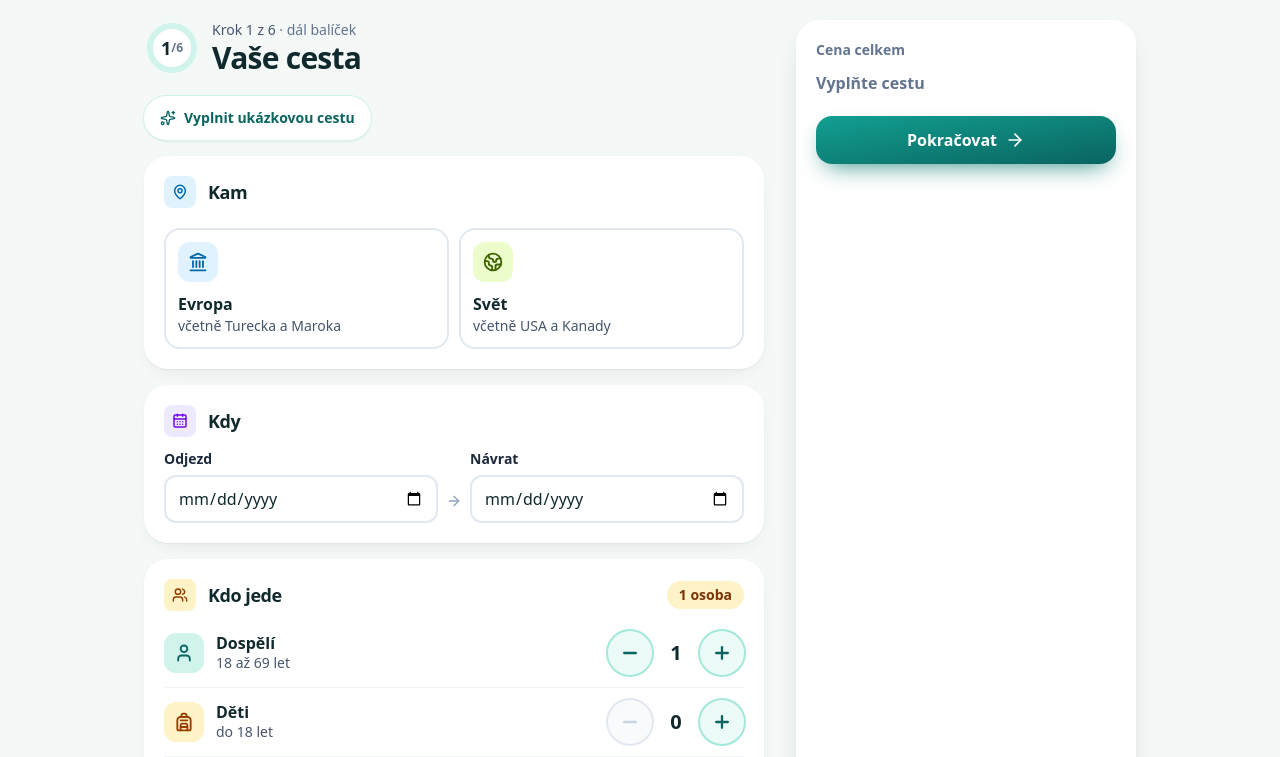
Test case: PurchaseFlow › ve variantě B jsou balíčky vedle sebe a Komfort je předvybraný
The image size is (1280, 757).
Click the button "Vyplnit ukázkovou cestu": (257, 118) left=144, top=96, right=371, bottom=140
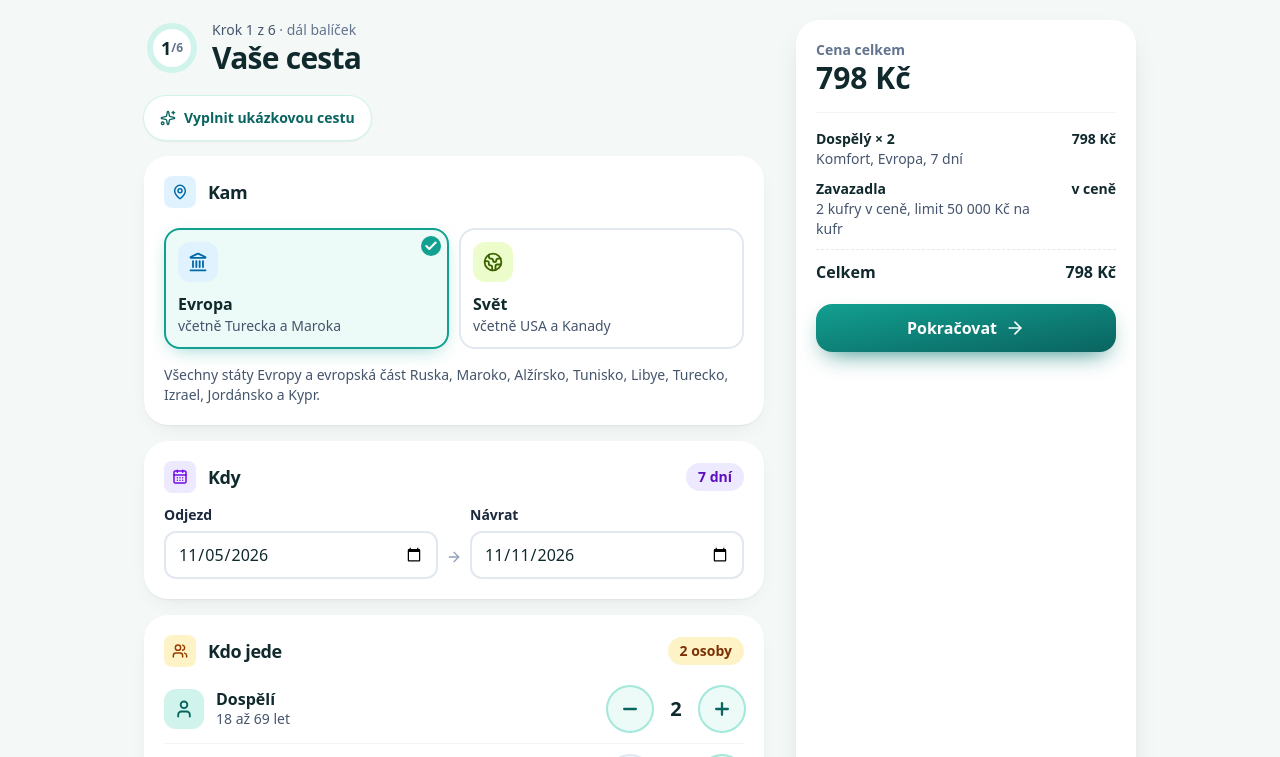
Click the button "Pokračovat": (966, 328) left=816, top=304, right=1116, bottom=352
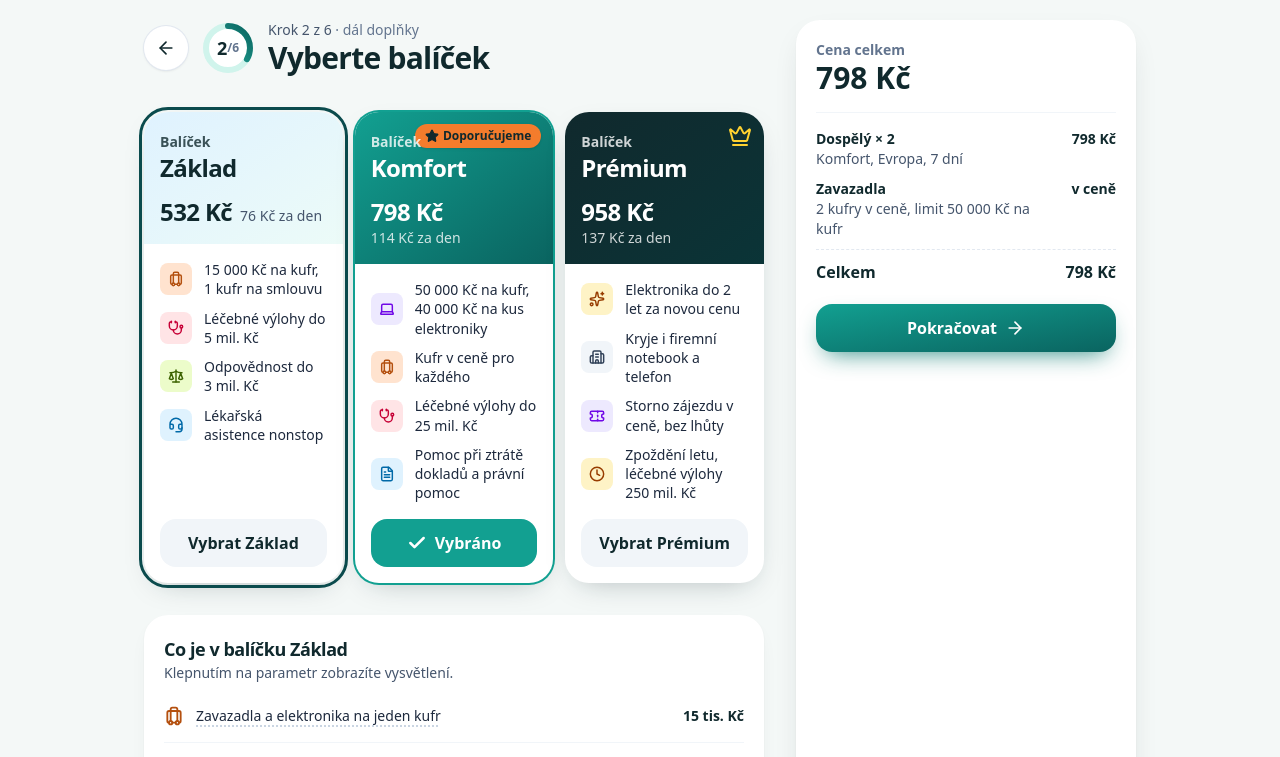
Result: the radio button labelled "Komfort" is checked at left=355, top=112, right=553, bottom=582
